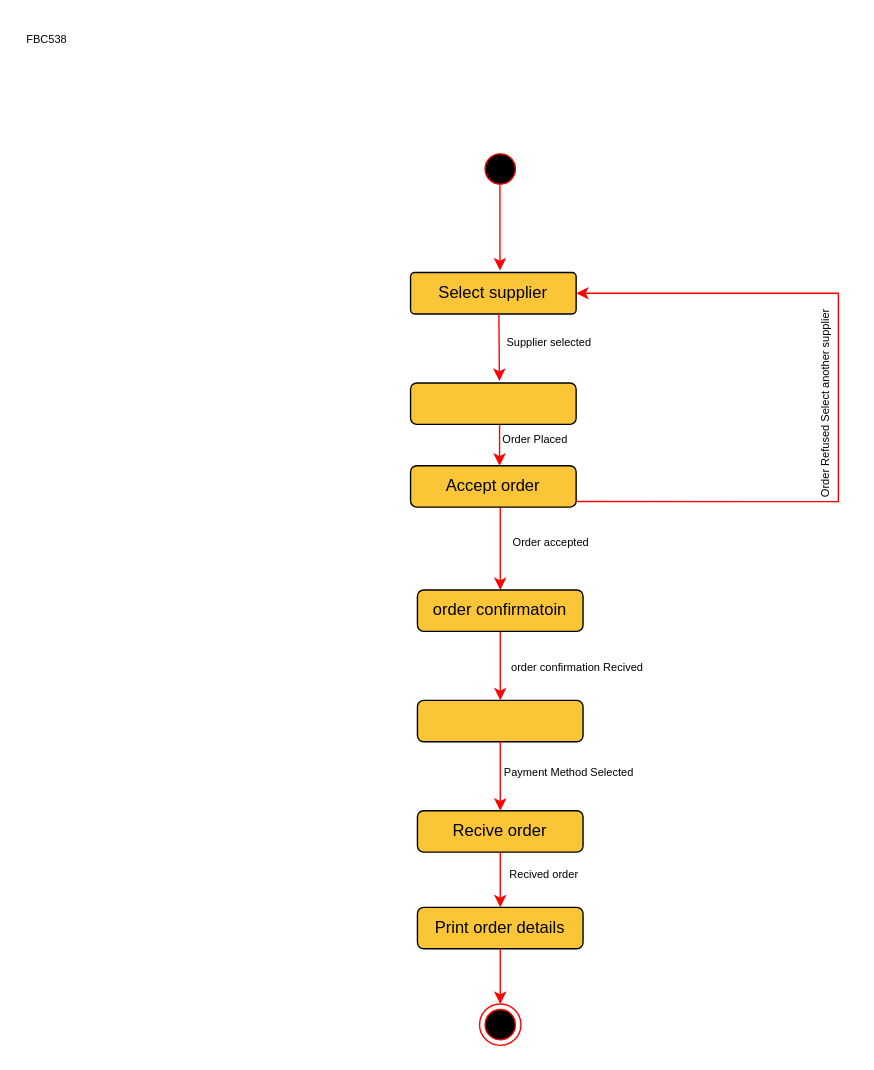
Some shapes in this 874 by 1070 pixel diagram are drawn without their labels. The shapes that lost their labels are listed below. From the top down, each one's centre as x and y in pixels, then its label:
At [492,403]: "Place order".
At [499,720]: "Payment".
